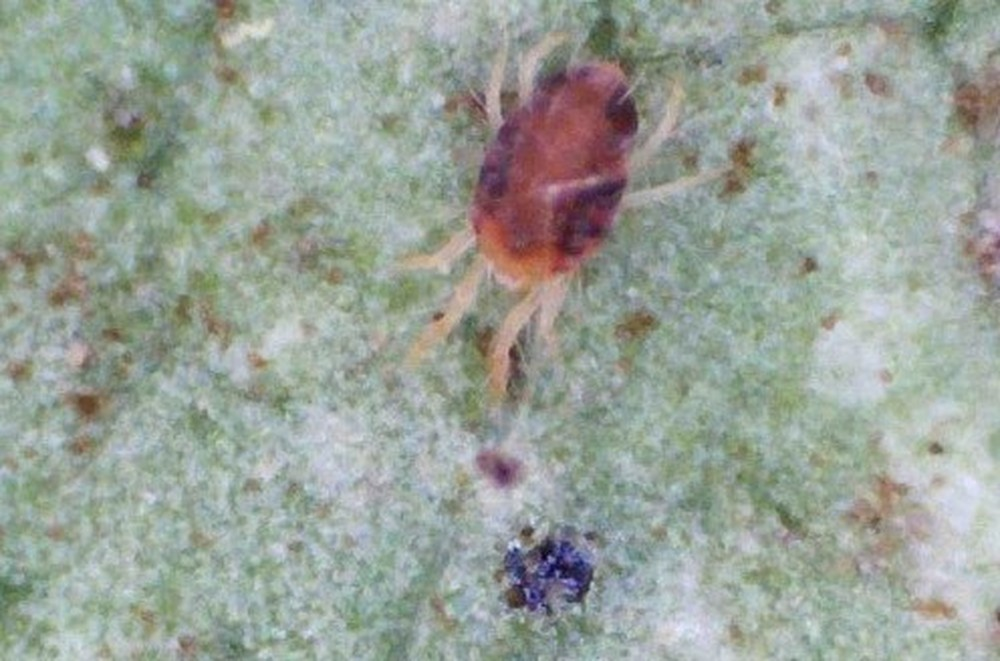Aracnido Rojo: (394, 40, 731, 397)
